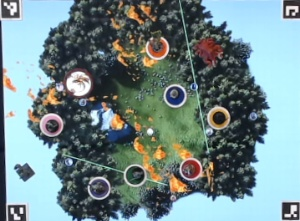blue: (161, 81, 187, 108)
green: (121, 163, 147, 188)
orange: (145, 33, 171, 59)
pink: (36, 113, 64, 138)
red: (178, 155, 202, 181)
violet: (86, 173, 111, 200)
yellow: (205, 103, 232, 129)
